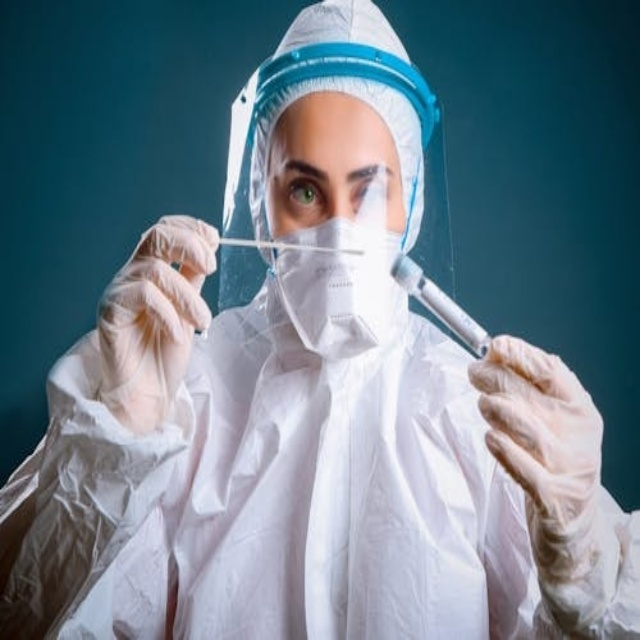Guantes: (469, 334, 612, 626), (90, 213, 221, 430)
Mascara: (265, 212, 419, 360)
Sin_gafas: (275, 149, 402, 213)
